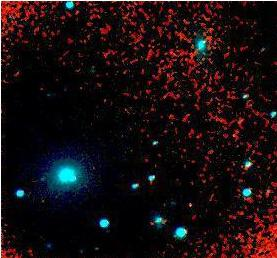star: (27, 162, 57, 192)
